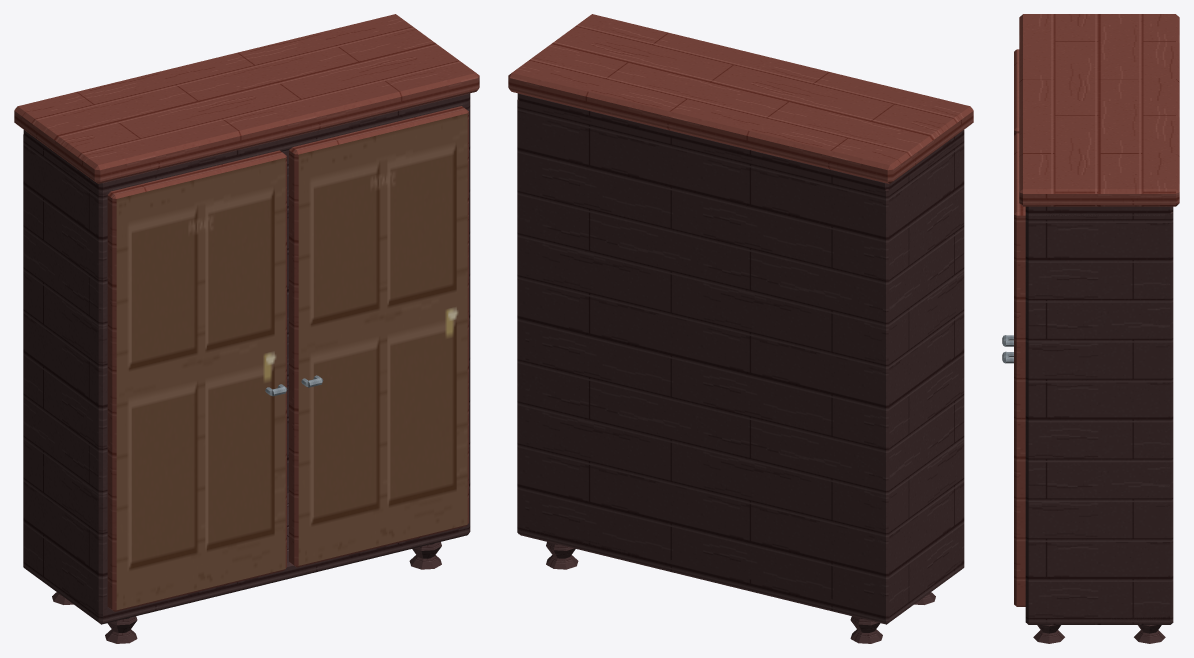
Rendered from MD_79_Wardrobe.fbx.
3 renders of one model, left to right at view 1: azimuth 30°, elevation 25°; view 2: azimuth 150°, elevation 25°; view 3: azimuth 270°, elevation 25°, orthographic. The views are drawn at different scales.
Parts seen in each view (by area): view 1: MD_79_Wardrobe_hinged_door, MD_79_Wardrobe_hinged_door.001, MD_79_Wardrobe_cabinet_crown, MD_79_Wardrobe_cabinet_side, MD_79_Wardrobe_cabinet_shelf.001, MD_79_Wardrobe_cabinet_shelf, MD_79_Wardrobe_cabinet_back, MD_79_Wardrobe_cabinet_side.001, MD_79_Wardrobe_turned_leg, MD_79_Wardrobe_turned_leg.002; view 2: MD_79_Wardrobe_cabinet_back, MD_79_Wardrobe_cabinet_crown, MD_79_Wardrobe_cabinet_side, MD_79_Wardrobe_cabinet_shelf, MD_79_Wardrobe_cabinet_side.001, MD_79_Wardrobe_cabinet_shelf.001, MD_79_Wardrobe_turned_leg.001, MD_79_Wardrobe_turned_leg.003; view 3: MD_79_Wardrobe_cabinet_side.001, MD_79_Wardrobe_cabinet_crown, MD_79_Wardrobe_hinged_door.001, MD_79_Wardrobe_cabinet_back, MD_79_Wardrobe_cabinet_shelf.001, MD_79_Wardrobe_cabinet_shelf, MD_79_Wardrobe_hinged_door, MD_79_Wardrobe_turned_leg.002, MD_79_Wardrobe_turned_leg.003.
Boxes of the visible parts, <box> form: MD_79_Wardrobe_hinged_door: <box>107,150,286,611</box>; MD_79_Wardrobe_hinged_door.001: <box>289,106,468,567</box>; MD_79_Wardrobe_cabinet_crown: <box>14,14,479,183</box>; MD_79_Wardrobe_cabinet_side: <box>23,136,113,621</box>; MD_79_Wardrobe_cabinet_shelf.001: <box>23,93,470,193</box>; MD_79_Wardrobe_cabinet_shelf: <box>24,493,470,624</box>; MD_79_Wardrobe_cabinet_back: <box>23,134,288,568</box>; MD_79_Wardrobe_cabinet_side.001: <box>458,101,470,534</box>; MD_79_Wardrobe_turned_leg: <box>105,616,137,643</box>; MD_79_Wardrobe_turned_leg.002: <box>409,542,441,569</box>; MD_79_Wardrobe_cabinet_back: <box>517,99,891,623</box>; MD_79_Wardrobe_cabinet_crown: <box>508,14,973,183</box>; MD_79_Wardrobe_cabinet_side: <box>874,136,964,620</box>; MD_79_Wardrobe_cabinet_shelf: <box>519,525,964,624</box>; MD_79_Wardrobe_cabinet_side.001: <box>519,104,529,534</box>; MD_79_Wardrobe_cabinet_shelf.001: <box>517,93,964,190</box>; MD_79_Wardrobe_turned_leg.001: <box>850,616,882,643</box>; MD_79_Wardrobe_turned_leg.003: <box>546,542,578,569</box>; MD_79_Wardrobe_cabinet_side.001: <box>1025,213,1170,622</box>; MD_79_Wardrobe_cabinet_crown: <box>1019,14,1179,206</box>; MD_79_Wardrobe_hinged_door.001: <box>1014,133,1025,606</box>; MD_79_Wardrobe_cabinet_back: <box>1165,212,1173,624</box>; MD_79_Wardrobe_cabinet_shelf.001: <box>1025,206,1173,216</box>; MD_79_Wardrobe_cabinet_shelf: <box>1025,613,1170,624</box>; MD_79_Wardrobe_hinged_door: <box>1014,49,1019,135</box>; MD_79_Wardrobe_turned_leg.002: <box>1033,625,1064,643</box>; MD_79_Wardrobe_turned_leg.003: <box>1134,625,1165,643</box>.
Size of the model in its own units: 1.71 by 2.09 by 0.719.
4 materials, 4 textured.
